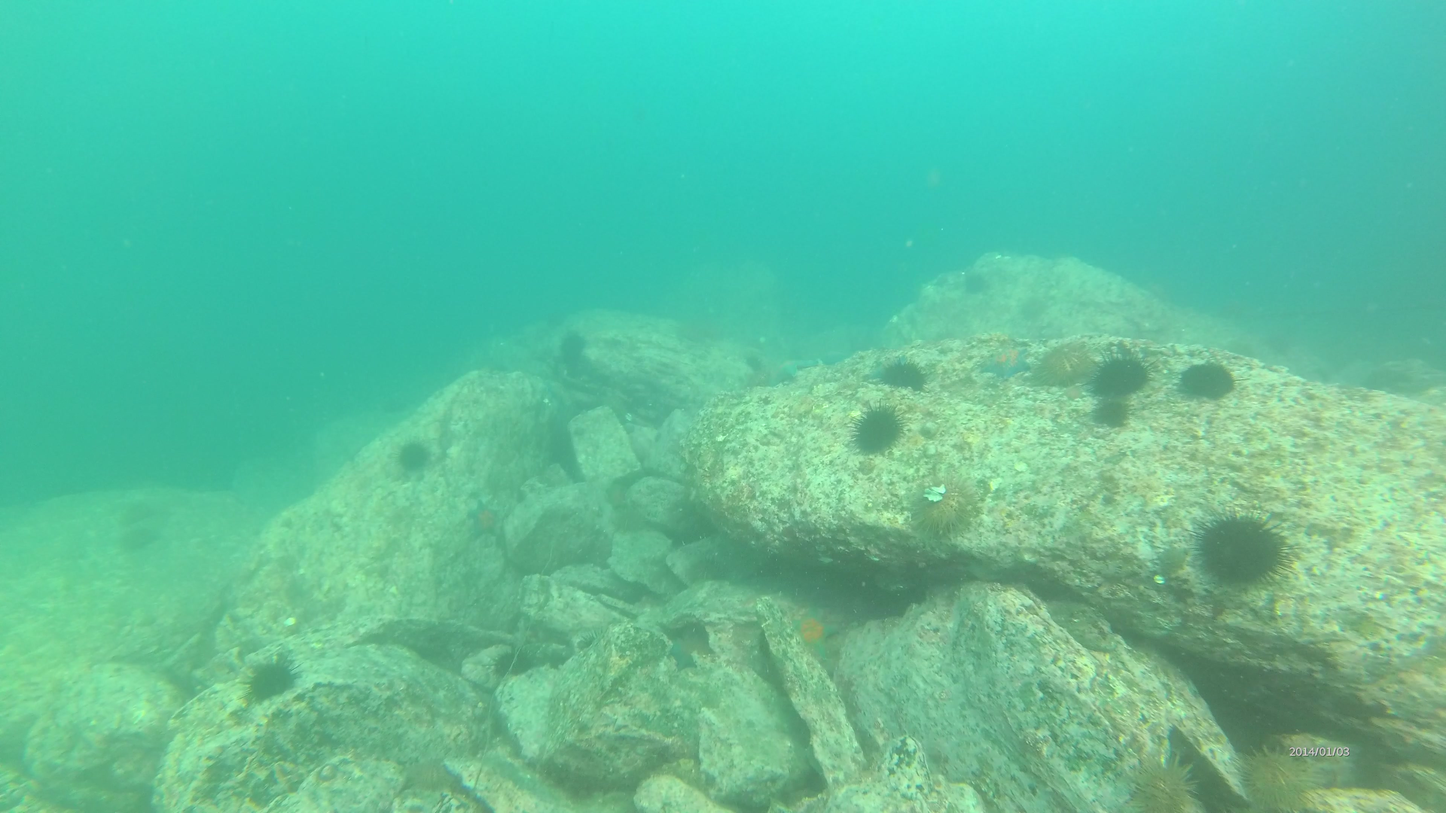holothurian: (1234, 737, 1336, 813), (1125, 746, 1198, 813), (781, 599, 845, 659), (979, 343, 1036, 383)
starfish: (1193, 504, 1298, 596), (911, 474, 981, 538), (1089, 344, 1156, 405), (1029, 338, 1094, 389), (1176, 360, 1242, 402), (244, 655, 305, 699), (856, 402, 906, 454), (877, 354, 927, 394), (1089, 394, 1138, 431), (395, 436, 432, 471)
